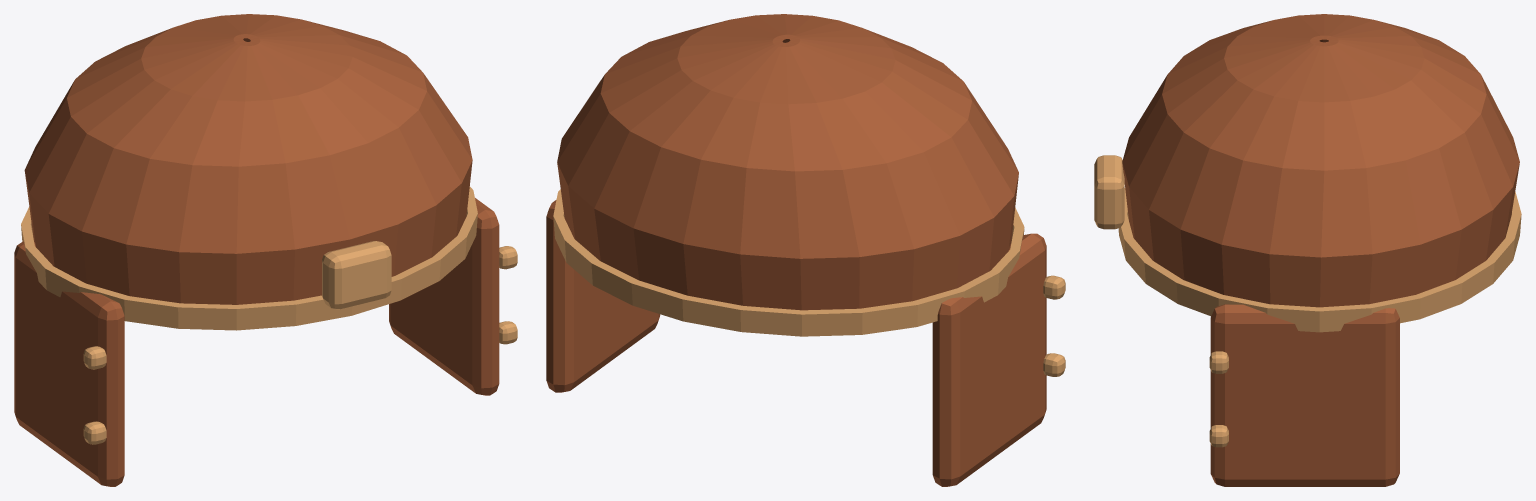
File: HeadItem.fbx
3 renders of one model, left to right at view 1: azimuth 30°, elevation 25°; view 2: azimuth 150°, elevation 25°; view 3: azimuth 270°, elevation 25°, orthographic. The views are drawn at different scales.
Parts seen in each view (by area): view 1: HeadItem; view 2: HeadItem; view 3: HeadItem.
Part boxes in pixels (left/top/right/bottom): HeadItem: left=14, top=14, right=517, bottom=486; HeadItem: left=546, top=14, right=1065, bottom=486; HeadItem: left=1094, top=14, right=1521, bottom=486.
Bounding box in the file's own units: 95 × 76.93 × 83.63.
1 material, 1 textured.
